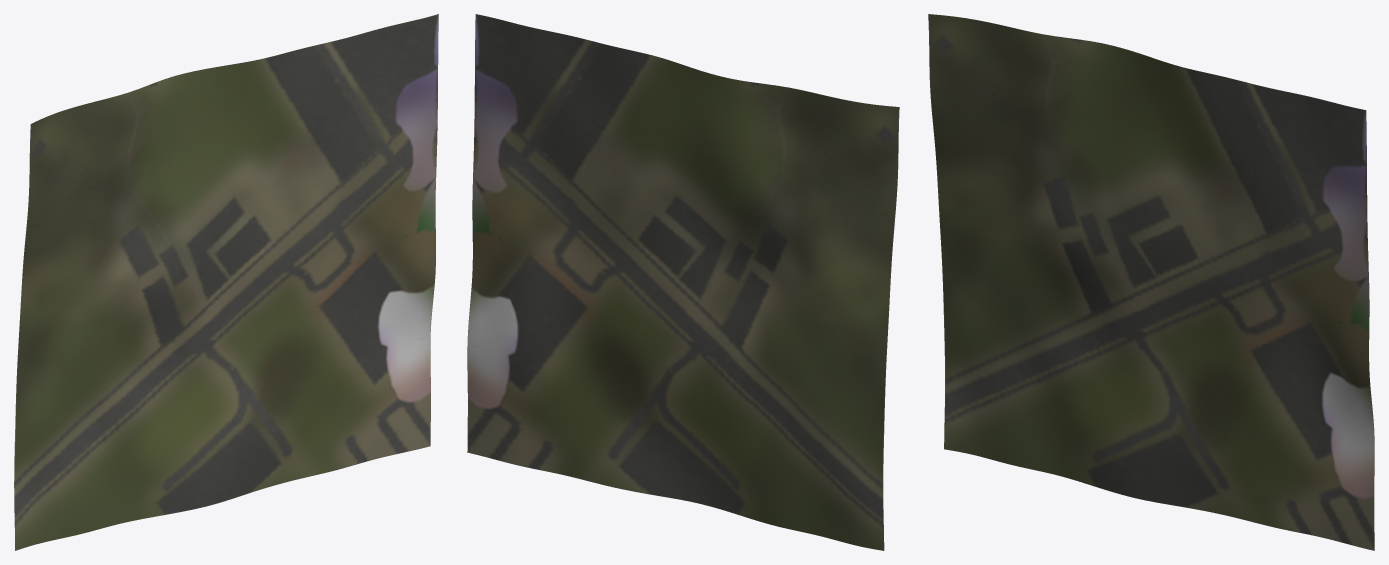
File: ground_mid_09_08.obj
3 views of the same model, side by side, from view 1: azimuth 30°, elevation 25°; view 2: azimuth 150°, elevation 25°; view 3: azimuth 330°, elevation 25° (orthographic). The views are drawn at different scales.
Parts seen in each view (by area): view 1: ground_mid_09_08; view 2: ground_mid_09_08; view 3: ground_mid_09_08.
Boxes of the visible parts, x1,y1,x2,y2 form: ground_mid_09_08: (14, 14, 438, 550); ground_mid_09_08: (467, 14, 899, 550); ground_mid_09_08: (928, 14, 1374, 550).
Size of the model in its own units: 200 by 200 by 16.39.
1 material, 1 textured.
